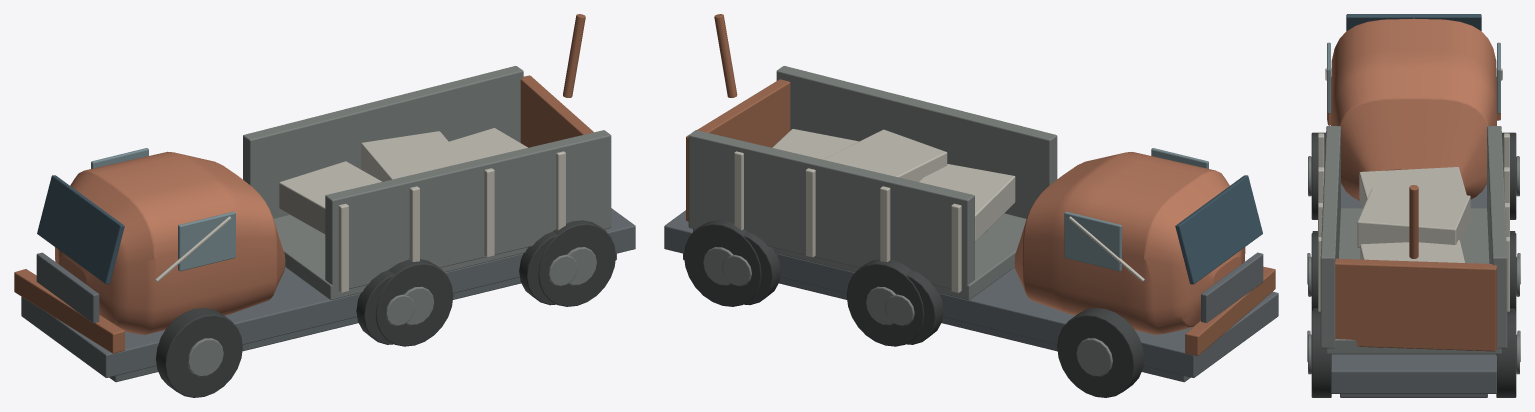
The model's file is Apoc_Vehicle_02_Ruined_Truck.fbx.
The picture shows the model from 3 angles, left to right: view 1: azimuth 30°, elevation 25°; view 2: azimuth 150°, elevation 25°; view 3: azimuth 270°, elevation 25°; orthographic projection. The views are drawn at different scales.
Visible parts, largest first — view 1: Apoc_Vehicle_02_Ruined_Truck; view 2: Apoc_Vehicle_02_Ruined_Truck; view 3: Apoc_Vehicle_02_Ruined_Truck.
Part boxes in pixels (box(x1,y1,x2,y2)): Apoc_Vehicle_02_Ruined_Truck: box(14, 14, 635, 397); Apoc_Vehicle_02_Ruined_Truck: box(664, 14, 1278, 397); Apoc_Vehicle_02_Ruined_Truck: box(1307, 14, 1520, 397).
Bounding box in the file's own units: 6.62 × 2.83 × 2.34.
